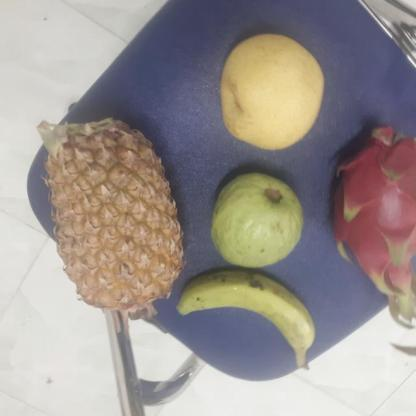banana: (177, 269, 314, 358)
guava: (206, 173, 304, 264)
pear: (212, 35, 324, 153)
pineapple: (43, 118, 182, 304)
pitaya: (323, 119, 416, 292)
